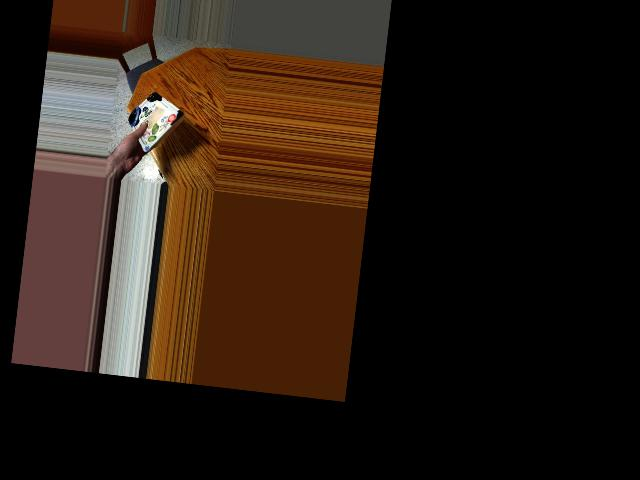cheese: (131, 89, 182, 147)
